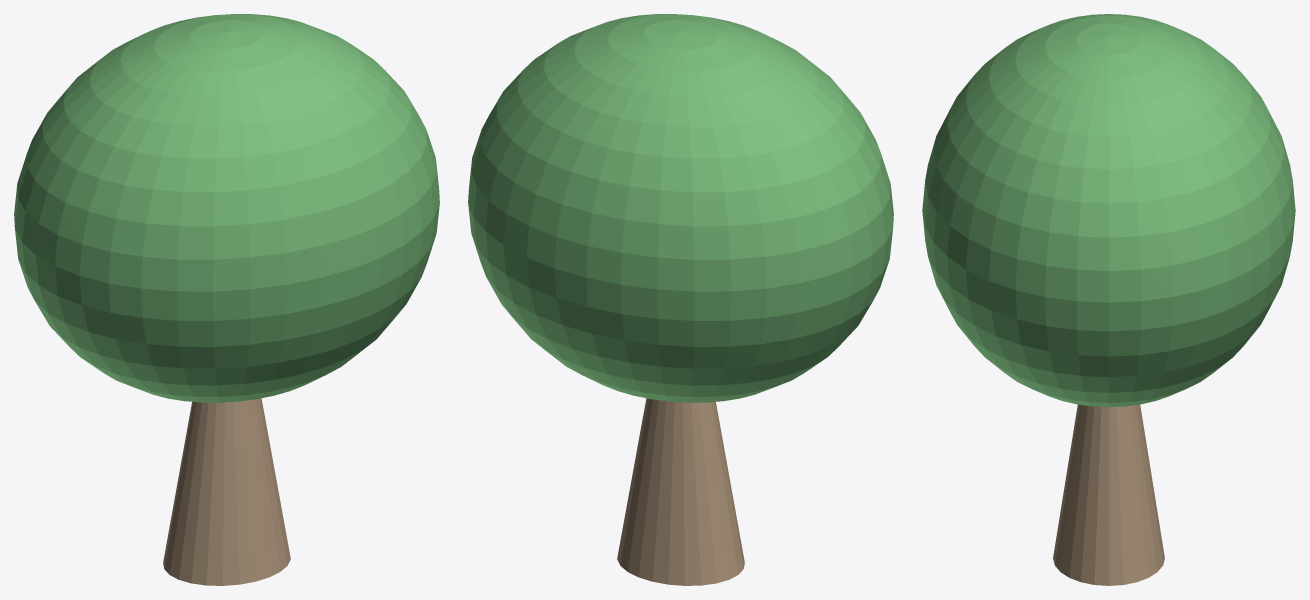
The model's file is AmazingRottis.glb.
3 views of the same model, side by side, from view 1: azimuth 30°, elevation 25°; view 2: azimuth 150°, elevation 25°; view 3: azimuth 270°, elevation 25° (orthographic).
Visible parts, largest first — view 1: Mesh_Mesh_head_geo.001_lambert2SG.001; view 2: Mesh_Mesh_head_geo.001_lambert2SG.001; view 3: Mesh_Mesh_head_geo.001_lambert2SG.001.
Boxes of the visible parts, x1,y1,x2,y2 form: Mesh_Mesh_head_geo.001_lambert2SG.001: (14,14,439,585); Mesh_Mesh_head_geo.001_lambert2SG.001: (468,14,893,585); Mesh_Mesh_head_geo.001_lambert2SG.001: (922,14,1295,585).
Size of the model in its own units: 28 by 37 by 24.
